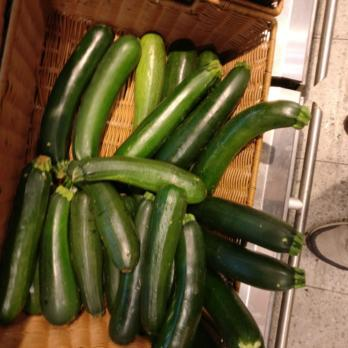Cucumber: (5, 159, 246, 348), (36, 16, 248, 203)
